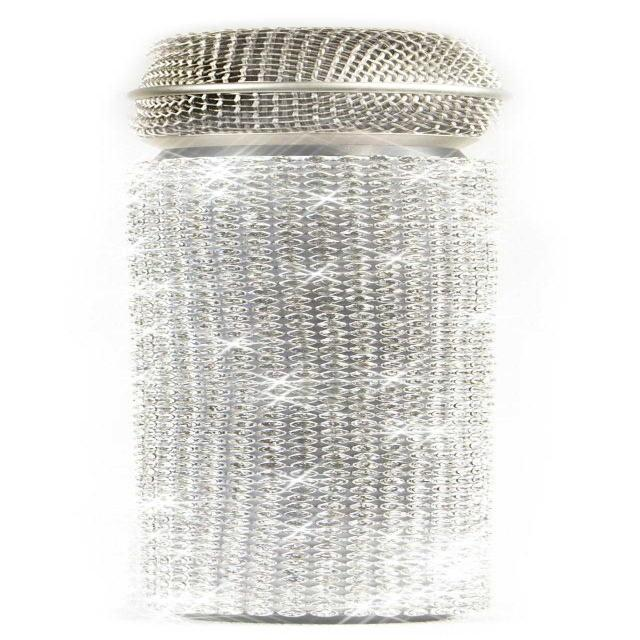microphone: (122, 25, 531, 616), (128, 27, 505, 151)
